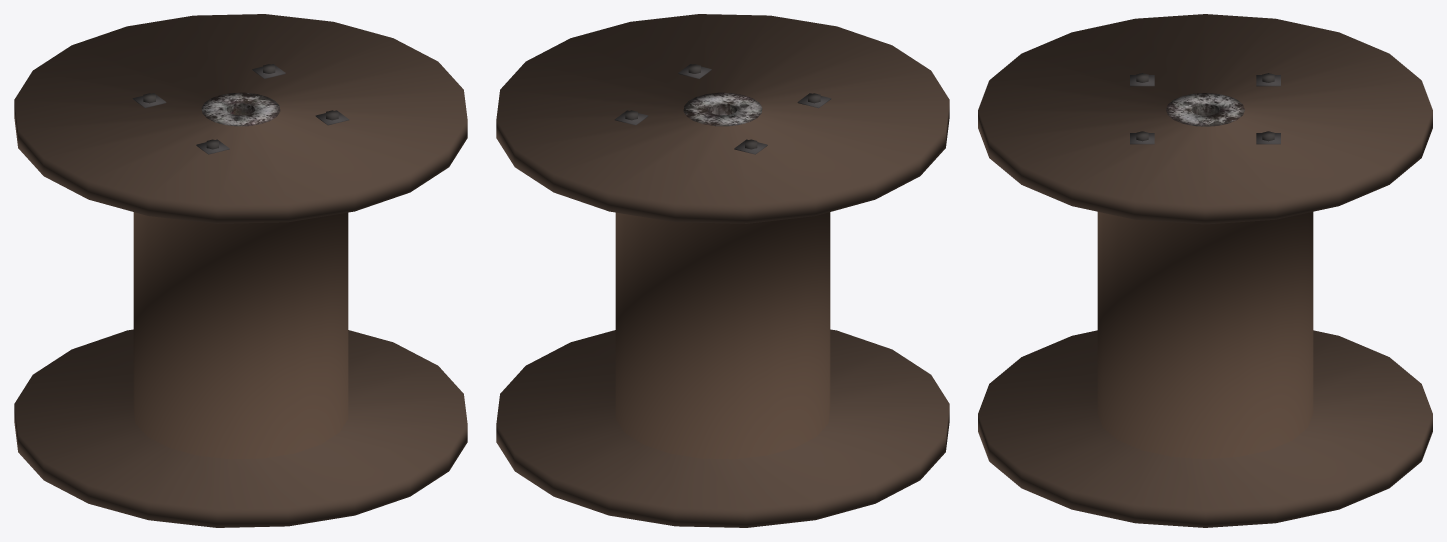
The model's file is cable-reel.lod0.glb.
3 renders of one model, left to right at view 1: azimuth 30°, elevation 25°; view 2: azimuth 150°, elevation 25°; view 3: azimuth 270°, elevation 25°, orthographic.
Visible parts, largest first — view 1: Cylinder.001_Reel_Wood_0, Cylinder.001_Reel_Metal_0; view 2: Cylinder.001_Reel_Wood_0, Cylinder.001_Reel_Metal_0; view 3: Cylinder.001_Reel_Wood_0, Cylinder.001_Reel_Metal_0.
Part boxes in pixels (x1,y1,x2,y2): Cylinder.001_Reel_Wood_0: (14,14,467,527); Cylinder.001_Reel_Metal_0: (201,92,280,126); Cylinder.001_Reel_Wood_0: (496,14,949,527); Cylinder.001_Reel_Metal_0: (683,92,762,126); Cylinder.001_Reel_Wood_0: (978,14,1432,527); Cylinder.001_Reel_Metal_0: (1166,93,1244,126).
Bounding box in the file's own units: 1.99 × 1.6 × 1.99.
Materials: 2 (1 with a texture image).
